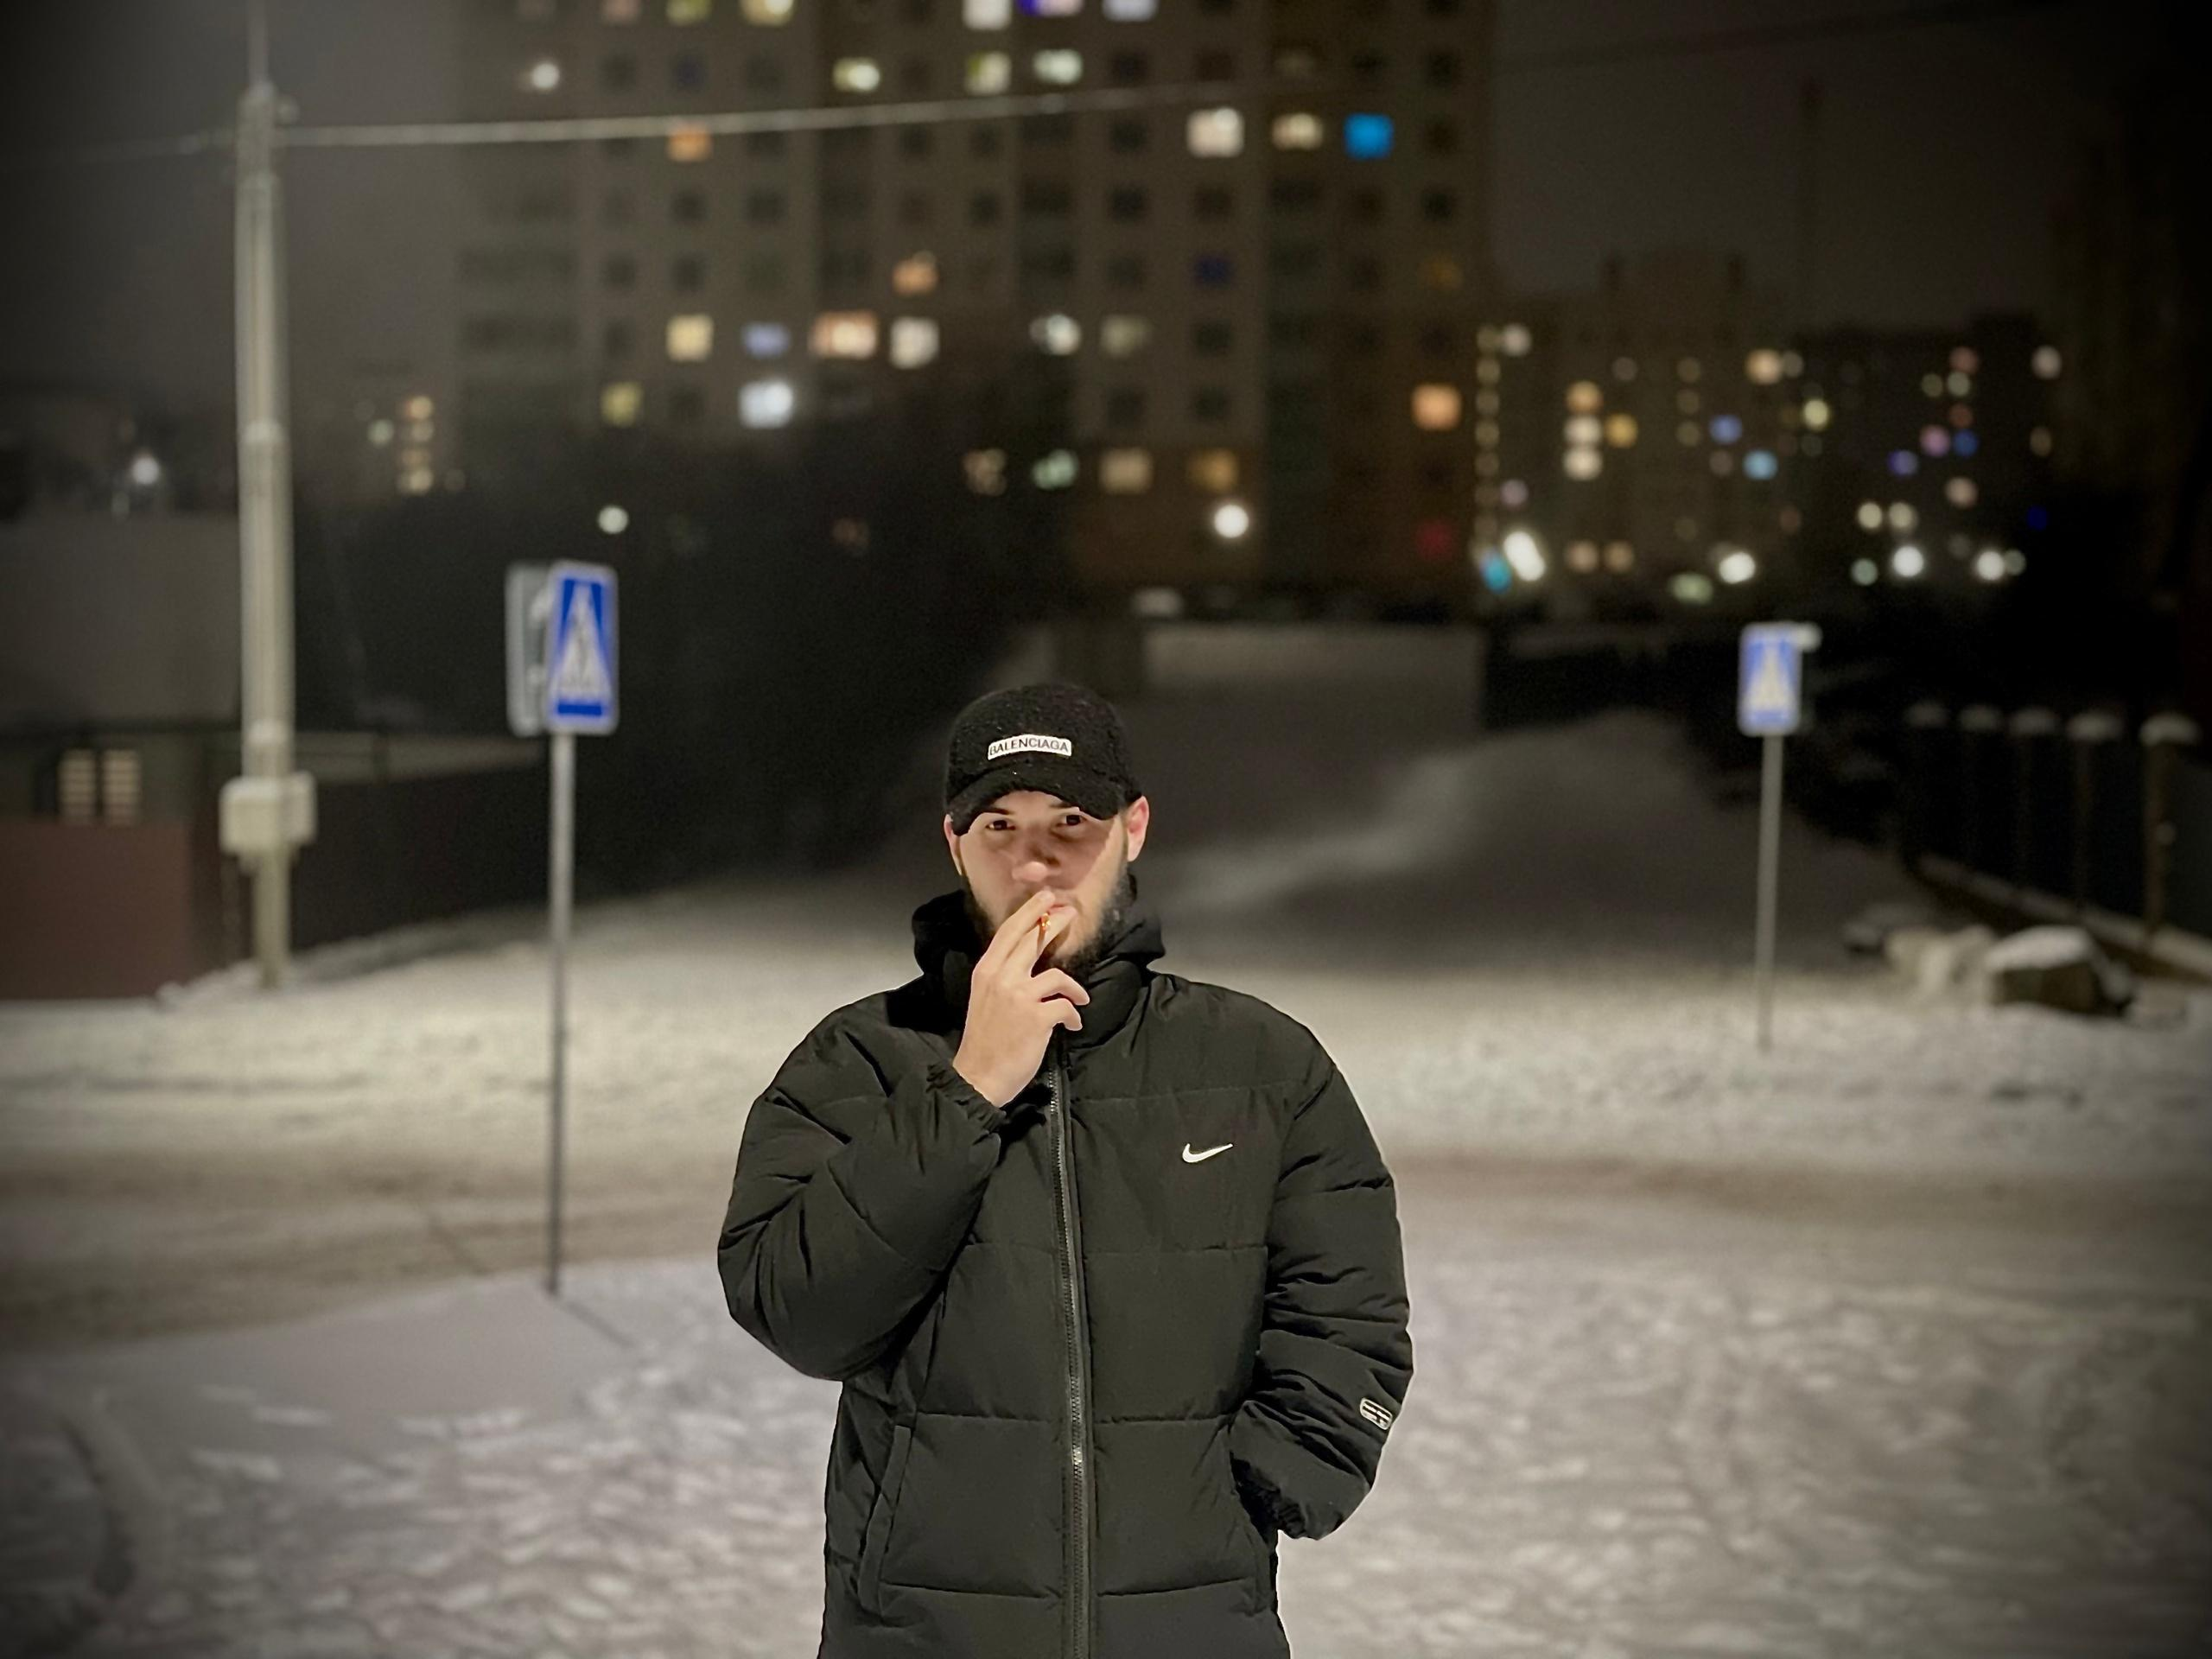cigarette: (1042, 911, 1050, 931)
